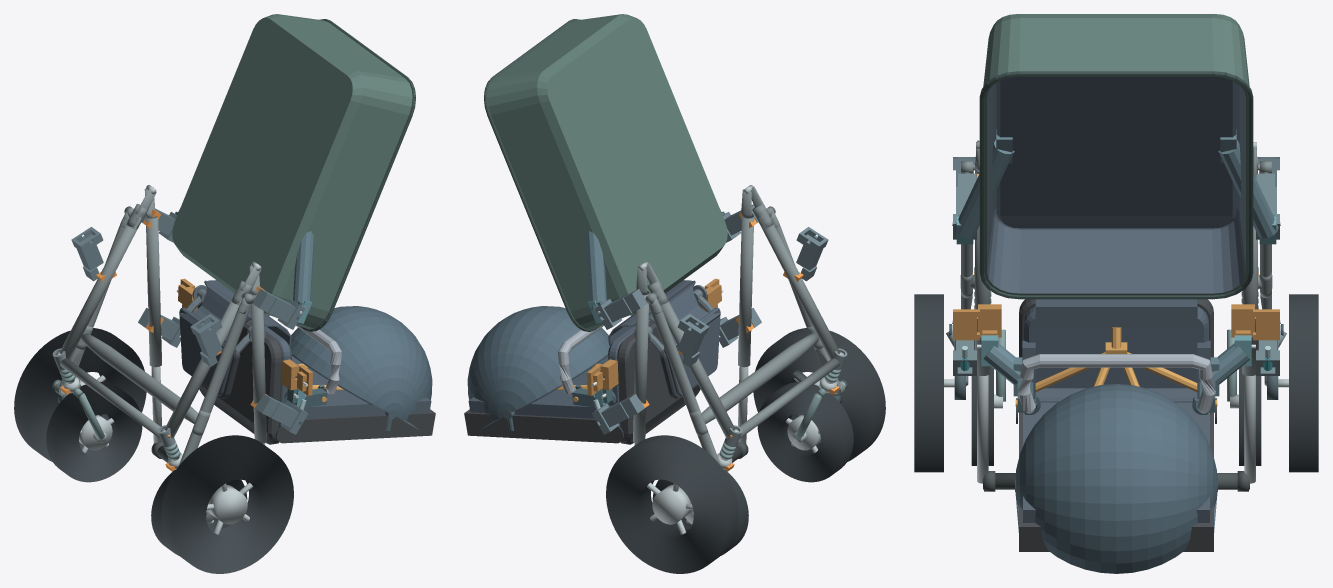
Rendered from D11_w650_state3_wheel_L.glb.
The picture shows the model from 3 angles, left to right: view 1: azimuth 30°, elevation 25°; view 2: azimuth 150°, elevation 25°; view 3: azimuth 270°, elevation 25°; orthographic projection. The views are drawn at different scales.
Visible parts, largest first — view 1: D11_Lower, D11_Upper, RL_tire.008, FR_tire.008, RR_tire.008, V46_rearbar.009, main_upper_1.009, main_lower_1.009, V46_rear_leg_-1.009, main_upper_-1.009, main_lower_-1.009, D11_Lower_Mount_M (+11 smaller); view 2: D11_Lower, D11_Upper, RR_tire.008, FL_tire.008, RL_tire.008, V46_rearbar.009, main_upper_-1.009, main_lower_-1.009, V46_rear_leg_1.009, main_upper_1.009, main_lower_1.009, D11_Lower_Mount_M (+11 smaller); view 3: D11_Lower, D11_Upper, RL_tire.008, RR_tire.008, D11_Lower_Mount_M, D11_Upper_Mount_H, D02_WideAdapter_H_-1, D02_WideAdapter_H_1, handle_slider_1.008, handle_slider_-1.008, FL_tire.008, FR_tire.008 (+9 smaller).
Boxes of the visible parts, x1=… form: D11_Lower: x1=172, y1=14, x2=415, y2=331; D11_Upper: x1=179, y1=280, x2=435, y2=444; RL_tire.008: x1=161, y1=435, x2=293, y2=573; FR_tire.008: x1=46, y1=382, x2=142, y2=482; RR_tire.008: x1=14, y1=328, x2=146, y2=461; V46_rearbar.009: x1=81, y1=333, x2=198, y2=423; main_upper_1.009: x1=145, y1=216, x2=161, y2=367; main_lower_1.009: x1=59, y1=217, x2=141, y2=359; V46_rear_leg_-1.009: x1=179, y1=303, x2=250, y2=465; main_upper_-1.009: x1=250, y1=293, x2=266, y2=443; main_lower_-1.009: x1=164, y1=300, x2=241, y2=438; D11_Lower_Mount_M: x1=175, y1=209, x2=313, y2=323; D11_Lower: x1=484, y1=14, x2=727, y2=331; D11_Upper: x1=464, y1=280, x2=720, y2=444; RR_tire.008: x1=606, y1=435, x2=738, y2=573; FL_tire.008: x1=757, y1=382, x2=853, y2=482; RL_tire.008: x1=753, y1=328, x2=885, y2=461; V46_rearbar.009: x1=701, y1=333, x2=818, y2=423; main_upper_-1.009: x1=738, y1=215, x2=754, y2=367; main_lower_-1.009: x1=758, y1=217, x2=840, y2=359; V46_rear_leg_1.009: x1=649, y1=303, x2=720, y2=465; main_upper_1.009: x1=633, y1=291, x2=649, y2=443; main_lower_1.009: x1=658, y1=300, x2=735, y2=438; D11_Lower_Mount_M: x1=586, y1=209, x2=724, y2=323; D11_Lower: x1=979, y1=14, x2=1253, y2=299; D11_Upper: x1=1015, y1=299, x2=1217, y2=573; RL_tire.008: x1=914, y1=294, x2=943, y2=472; RR_tire.008: x1=1289, y1=294, x2=1318, y2=472; D11_Lower_Mount_M: x1=952, y1=129, x2=1280, y2=244; D11_Upper_Mount_H: x1=977, y1=335, x2=1255, y2=396; D02_WideAdapter_H_-1: x1=952, y1=304, x2=1001, y2=340; D02_WideAdapter_H_1: x1=1231, y1=304, x2=1280, y2=340; handle_slider_1.008: x1=1244, y1=375, x2=1255, y2=483; handle_slider_-1.008: x1=977, y1=375, x2=988, y2=483; FL_tire.008: x1=971, y1=340, x2=993, y2=465; FR_tire.008: x1=1239, y1=340, x2=1261, y2=465.
Bounding box in the file's own units: 0.9751 × 1.22 × 0.8171.
